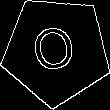O_S: (30, 20, 83, 81)
